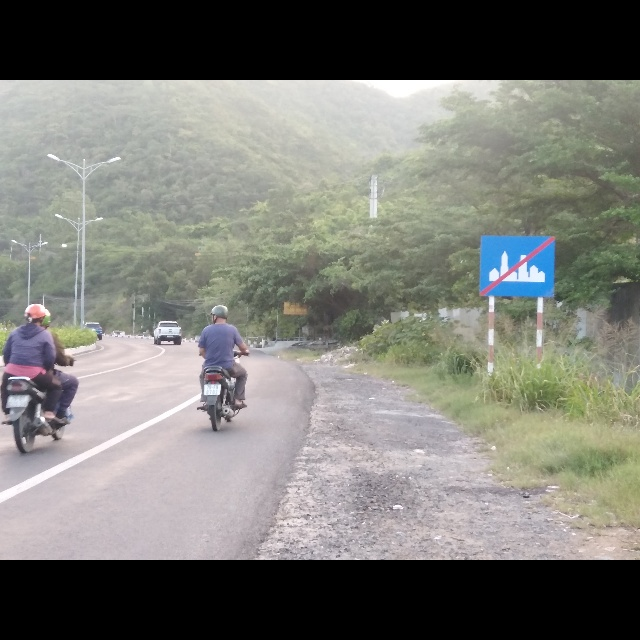Hết khu đông dân cư: (478, 232, 556, 299)
